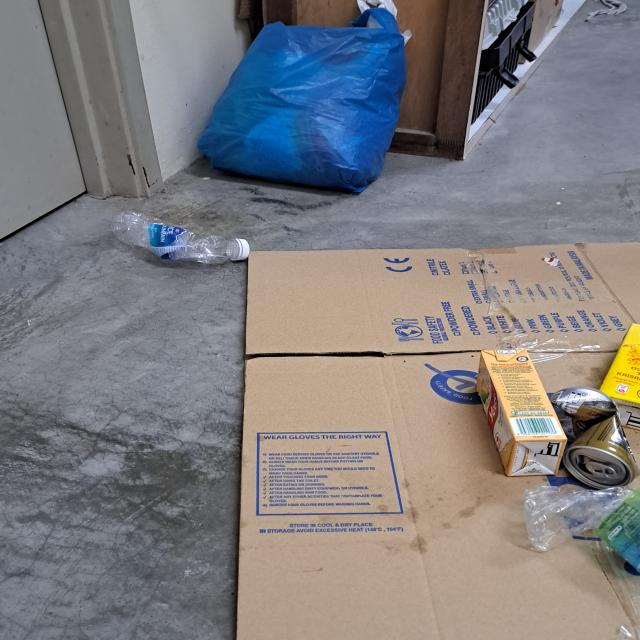can: (236, 241, 640, 640), (550, 387, 640, 490)
drink carton: (477, 347, 567, 477)
plastic bag: (194, 20, 406, 194)
plastic bottle: (524, 483, 640, 569), (110, 208, 239, 265)
plastic bottle cap: (232, 238, 250, 261)
pop tab: (586, 462, 616, 479)
